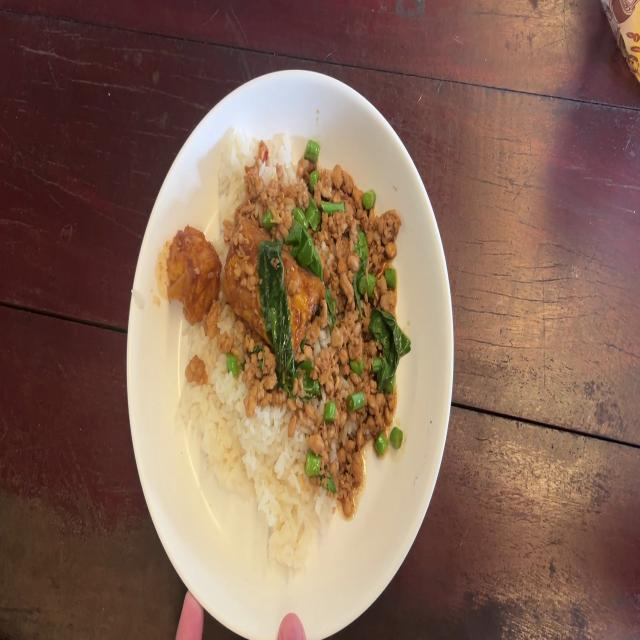01rice: (186, 376, 320, 570)
fried_tofo: (221, 216, 316, 357), (168, 229, 221, 317)
minced_pork: (316, 214, 402, 516), (234, 132, 406, 220), (239, 344, 323, 414)
stir_fried_basil: (169, 128, 409, 570)
